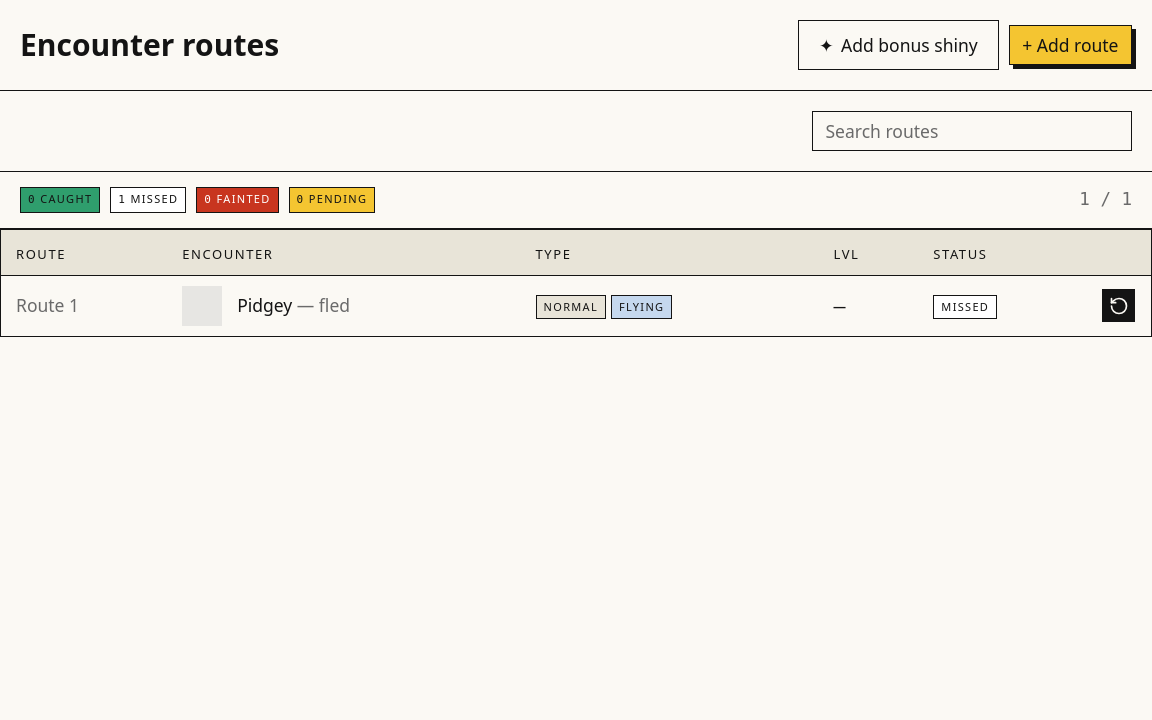
Scenario: Bonus shiny dialog › requires a nickname when the rule is on and saves nothing without one
This screenshot has width=1152, height=720.
Click the button "✦ Add bonus shiny".
click(898, 45)  # box left=798, top=20, right=999, bottom=70
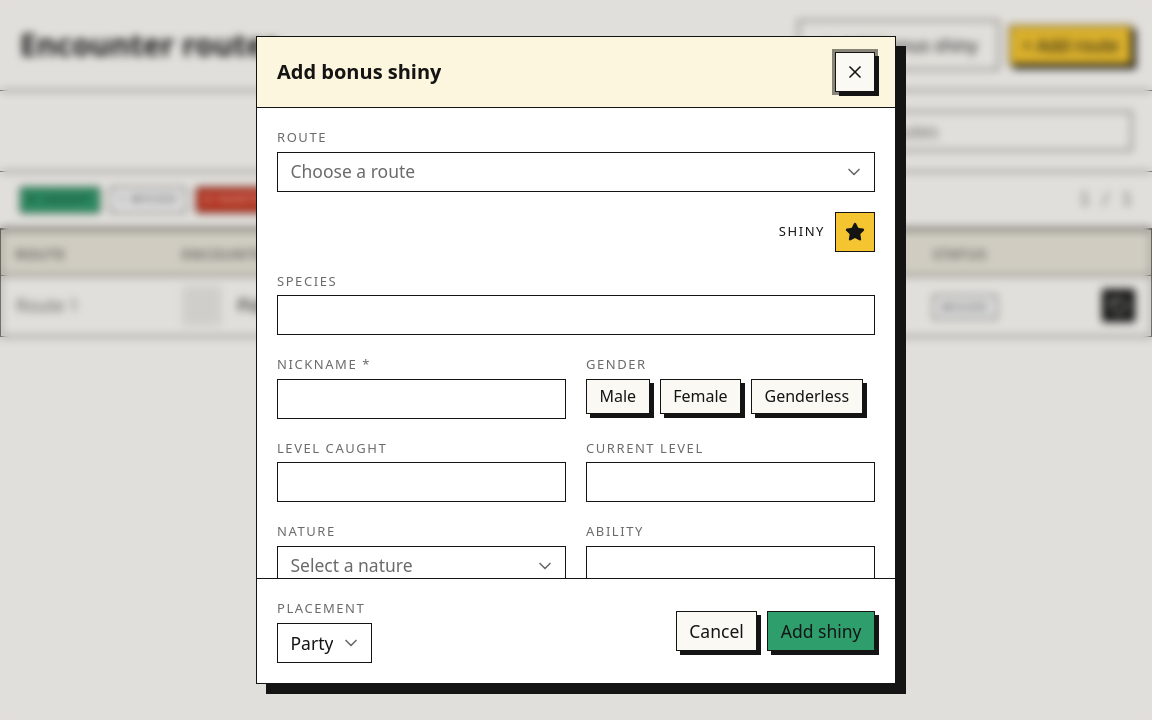
Click the dropdown labelled "route".
click(353, 171)  # box left=277, top=152, right=875, bottom=192
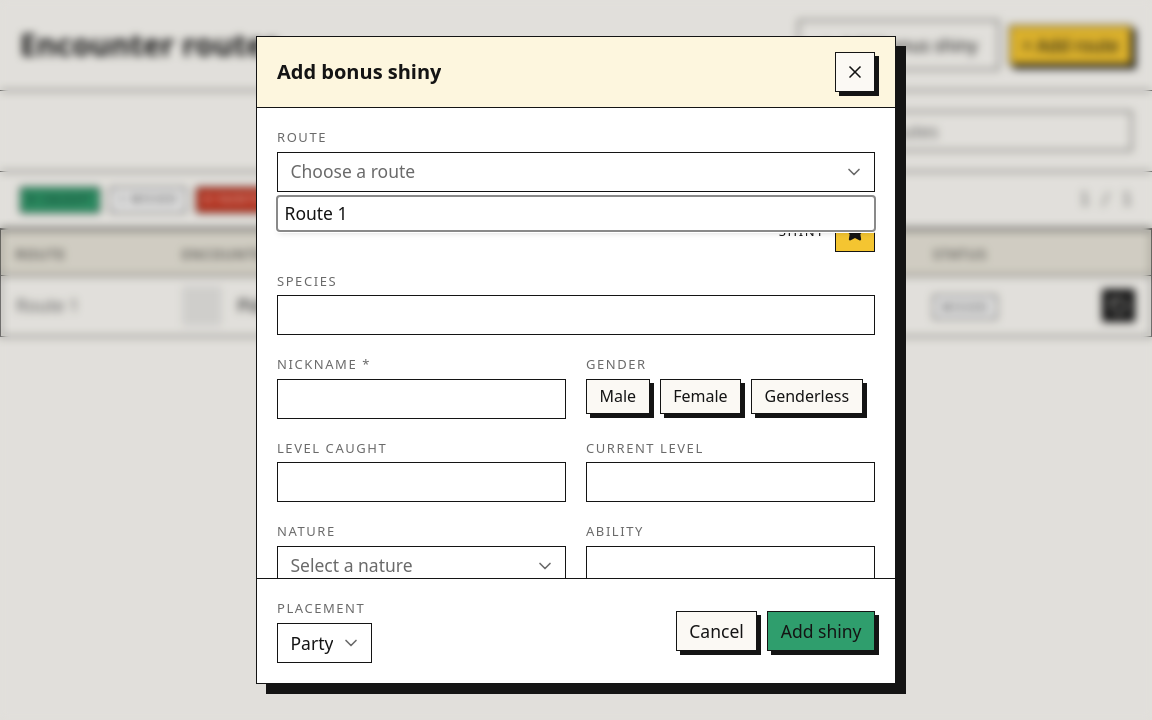
Click the option "Route 1".
click(316, 213)  # box left=284, top=201, right=348, bottom=225
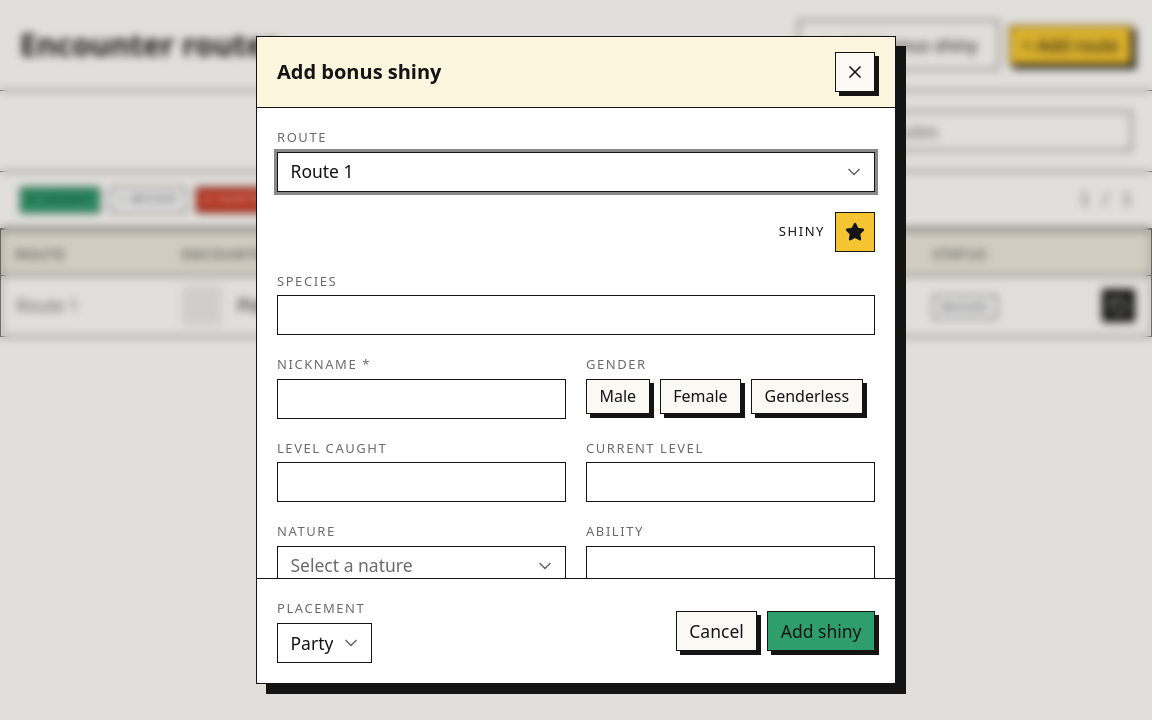
Type "Chikorita" into the dropdown labelled "Species".
click(576, 315); type("Chikorita")  # box left=277, top=295, right=875, bottom=335
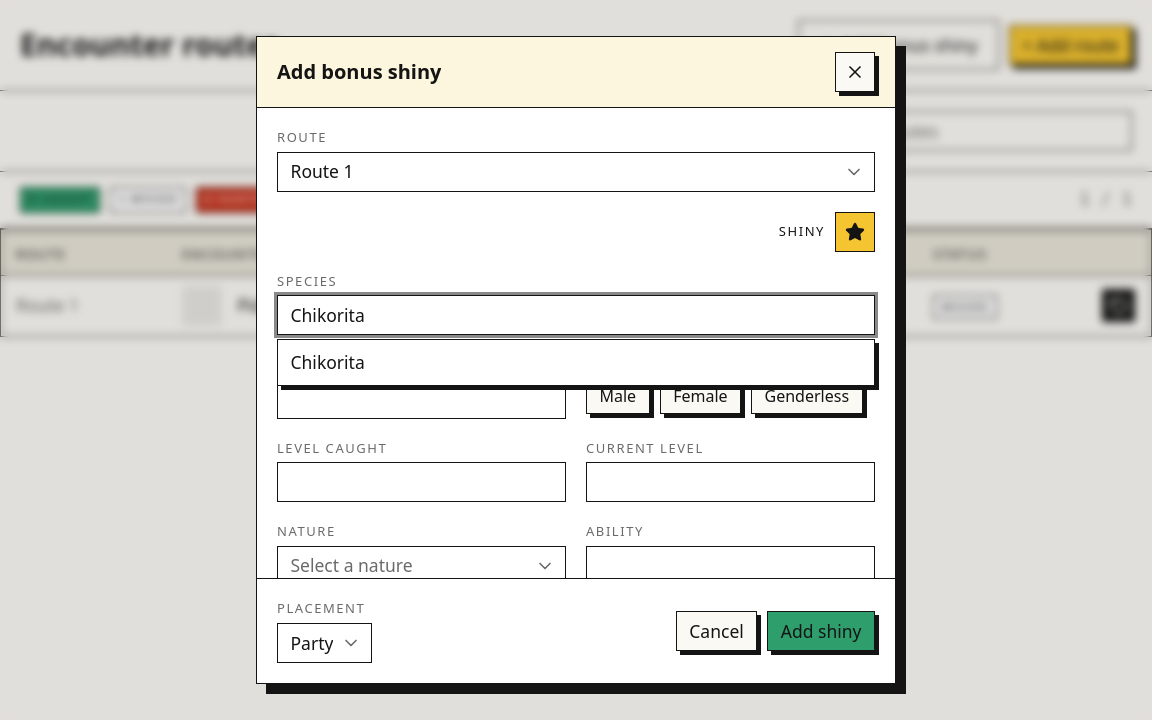
Type "6" into the field labelled "Level caught".
click(422, 482); type("6")  # box left=277, top=462, right=566, bottom=502
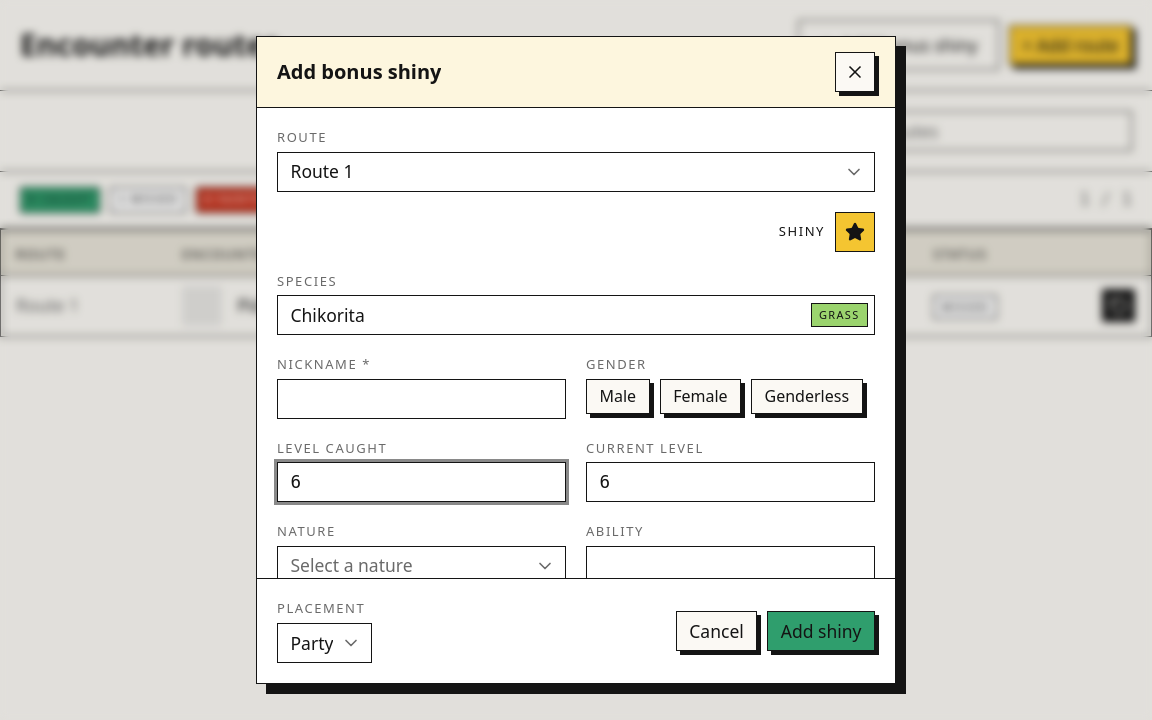
Click the button "Add shiny".
click(821, 631)  # box left=767, top=611, right=875, bottom=651
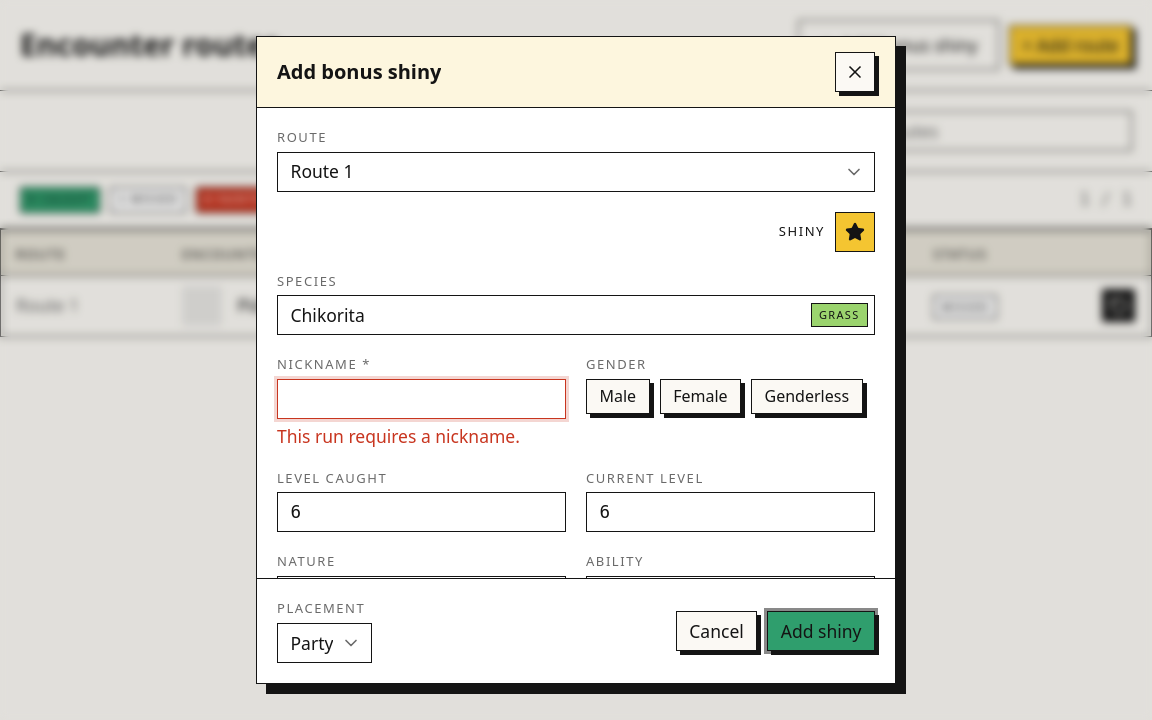
Expected: the text "This run requires a nickname." is shown, left=277, top=424, right=520, bottom=448
